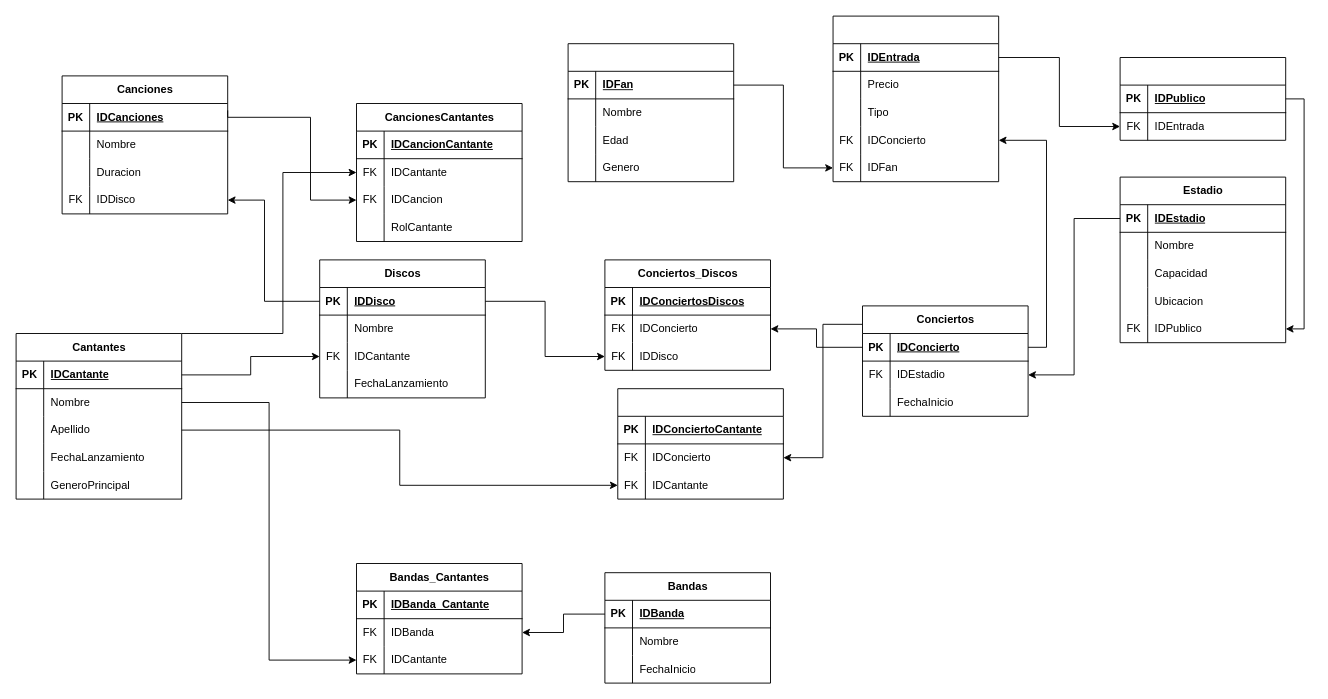
The diagram is 1328 pixels wide and 699 high, and some of its shapes have lost their labels. Here are the shapes that lost their labels. From the top down, the box of each, then its label:
(567, 43, 734, 182): Fans
(832, 15, 999, 182): Entradas
(1119, 57, 1286, 140): Publicos
(617, 388, 783, 499): Conciertos_Cantantes
